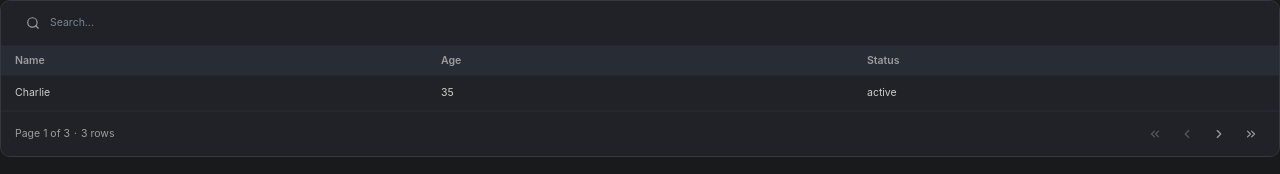
stable table controller reactivity › moves between page windows and updates navigation availability
Click the button named "Next page" at (1219, 134), box [1205,120,1233,148]
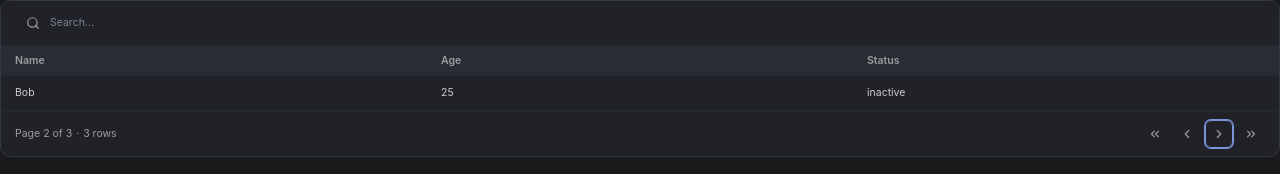
Expected: the cell "Bob" is shown, [1,76,427,111]
Expected: the text "Charlie" is gone
Expected: the text "Page 2 of 3" is shown, [15,127,72,140]
Click the button named "Last page" at (1251, 134), box [1237,120,1265,148]
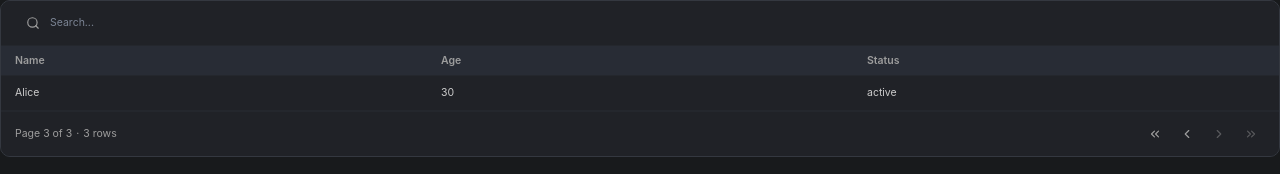
Expected: the button named "Next page" is disabled, [1205,120,1233,148]
Expected: the cell "Alice" is shown, [1,76,427,111]
Click the button named "First page" at (1155, 134), box [1141,120,1169,148]
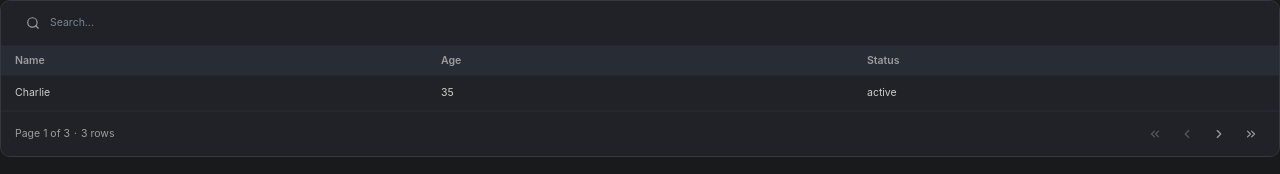
Expected: the button named "Previous page" is disabled, [1173,120,1201,148]
Expected: the cell "Charlie" is shown, [1,76,427,111]
